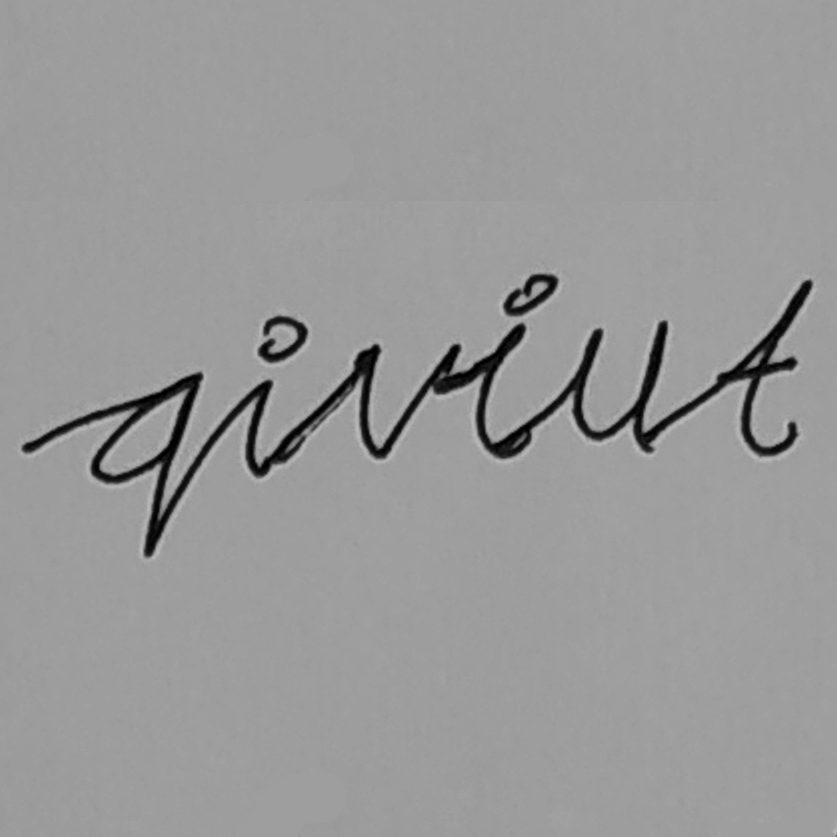i: (470, 270, 557, 462), (237, 313, 312, 480)
q: (86, 368, 206, 561)
t: (713, 275, 815, 461)
u: (569, 315, 672, 452)
v: (350, 341, 462, 461)
